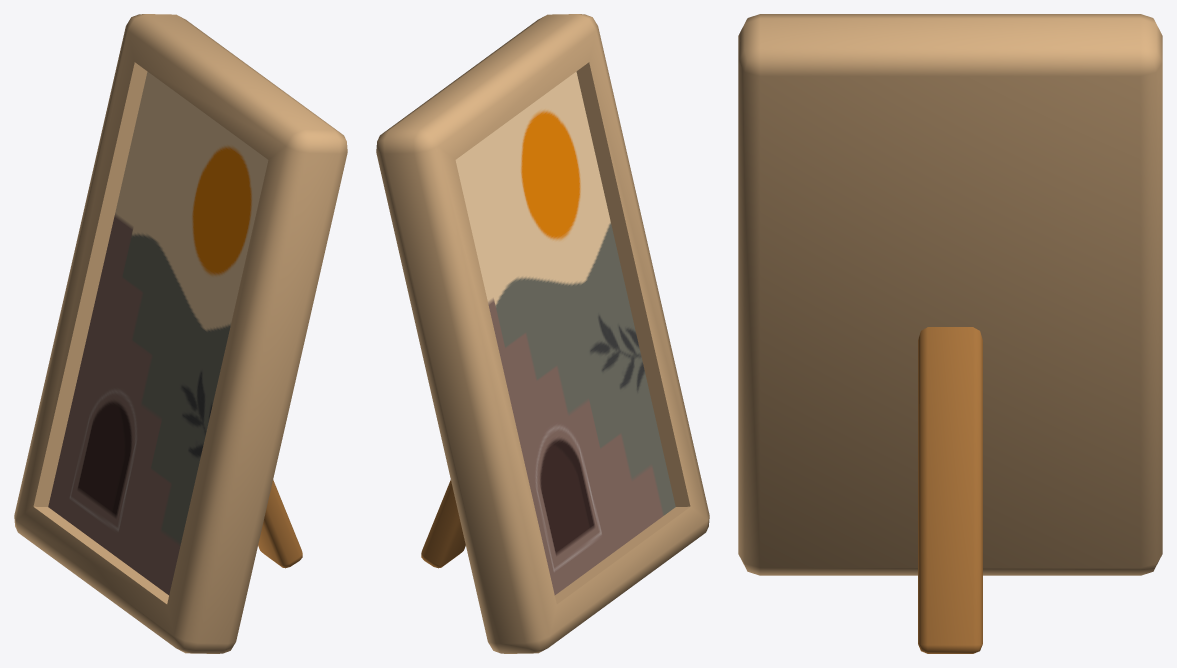
File: Frame02.fbx
The picture shows the model from 3 angles, left to right: view 1: azimuth 30°, elevation 25°; view 2: azimuth 150°, elevation 25°; view 3: azimuth 270°, elevation 25°; orthographic projection. The views are drawn at different scales.
Parts seen in each view (by area): view 1: Frame02; view 2: Frame02; view 3: Frame02.
Part boxes in pixels (x1=…): Frame02: x1=14, y1=14, x2=347, y2=653; Frame02: x1=376, y1=14, x2=709, y2=653; Frame02: x1=738, y1=14, x2=1162, y2=653.
Bounding box in the file's own units: 0.0646 × 0.1 × 0.1573.
